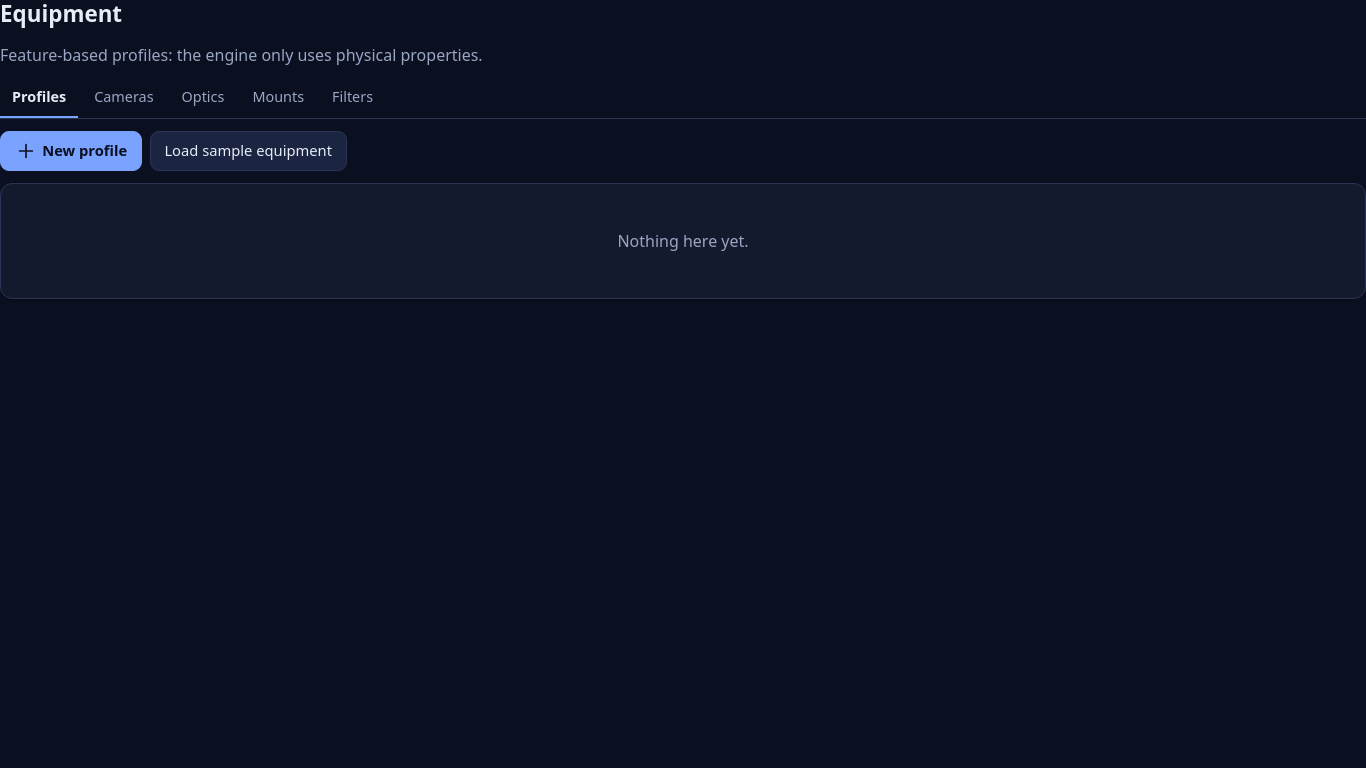
Test case: Equipment page › creates a camera with derived pixel pitch and persists it
This screenshot has width=1366, height=768.
Click the tab "Cameras": (124, 99) [82,79,166,118]
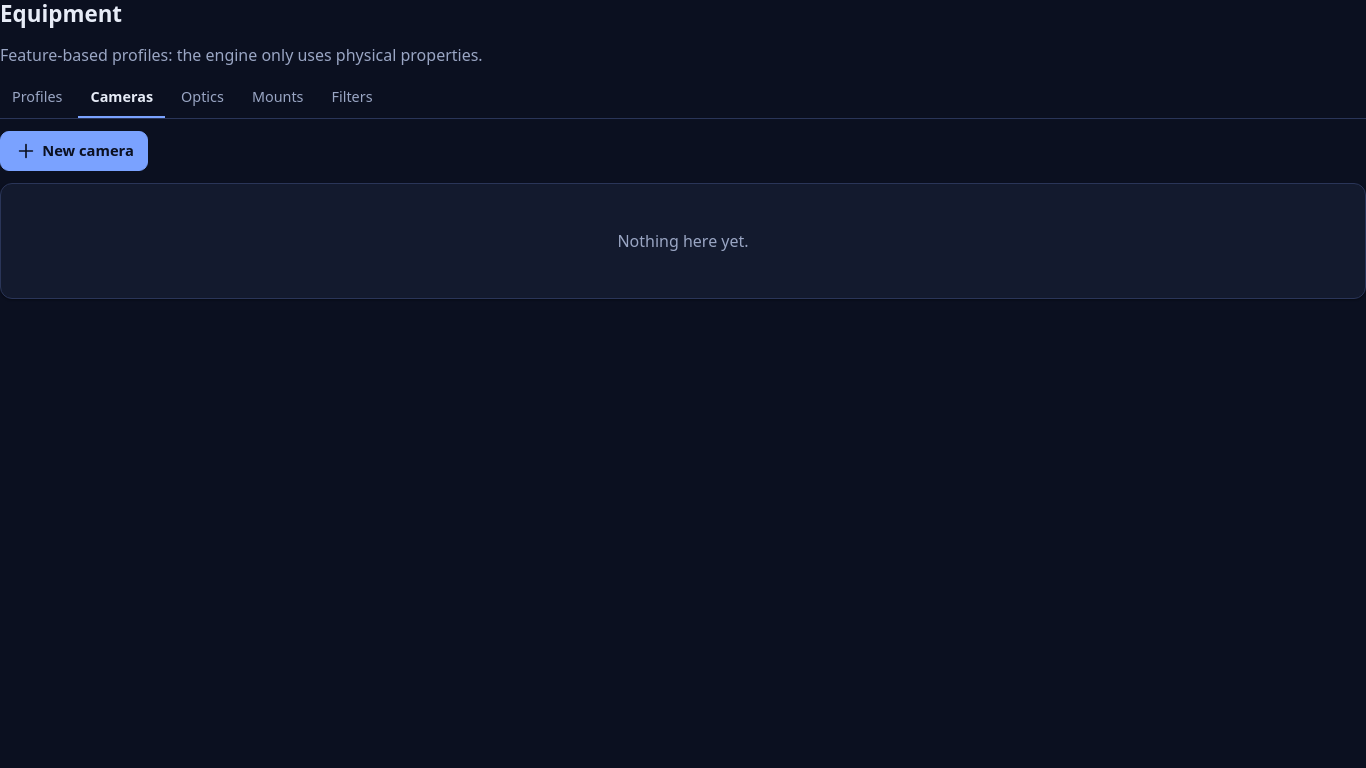
Click the button "New camera": (74, 151) [0,131,148,171]
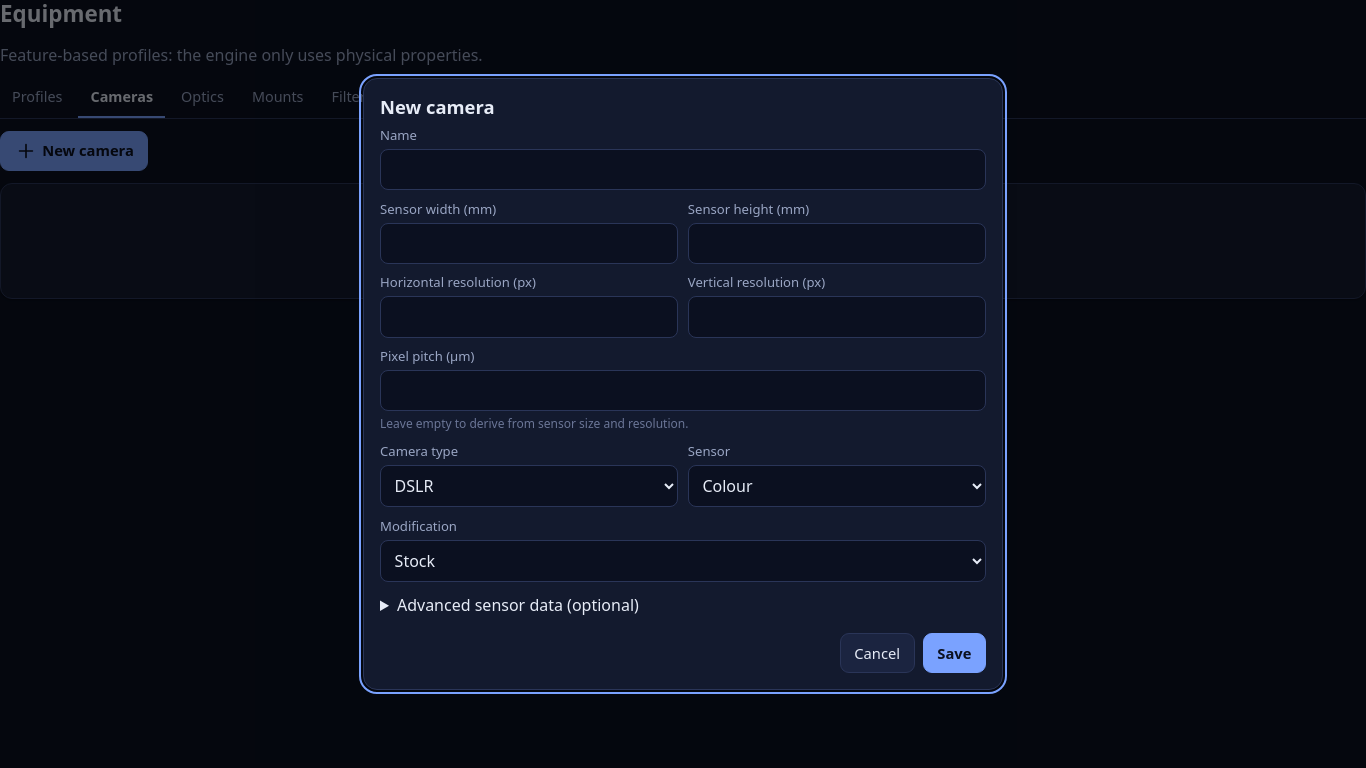
In the field labelled "Name": (683, 169) [380,149,986,190], type "Test cam"
In the number field labelled "Sensor width (mm)": (529, 243) [380,223,678,264], type "22.3"
In the number field labelled "Sensor height (mm)": (837, 243) [688,223,986,264], type "14.9"
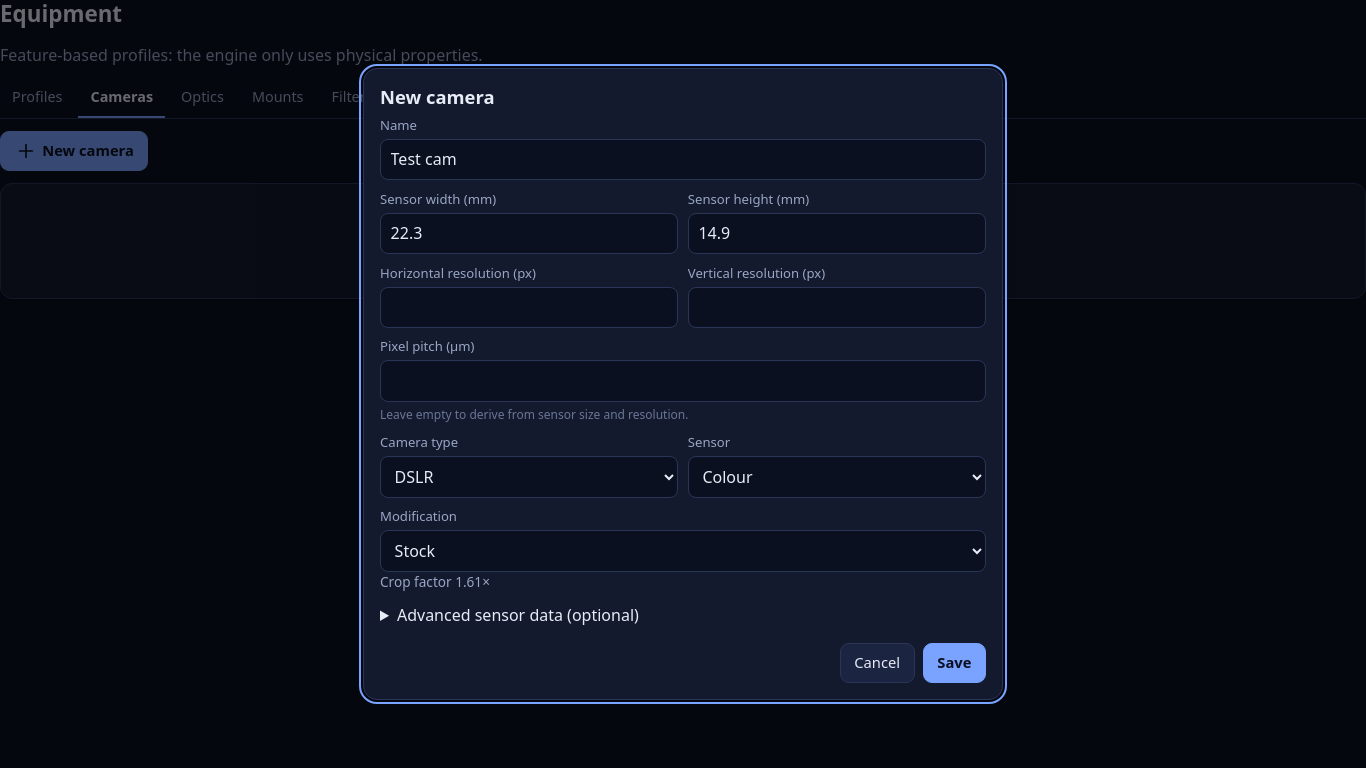
In the number field labelled "Horizontal resolution (px)": (529, 307) [380,287,678,328], type "6000"
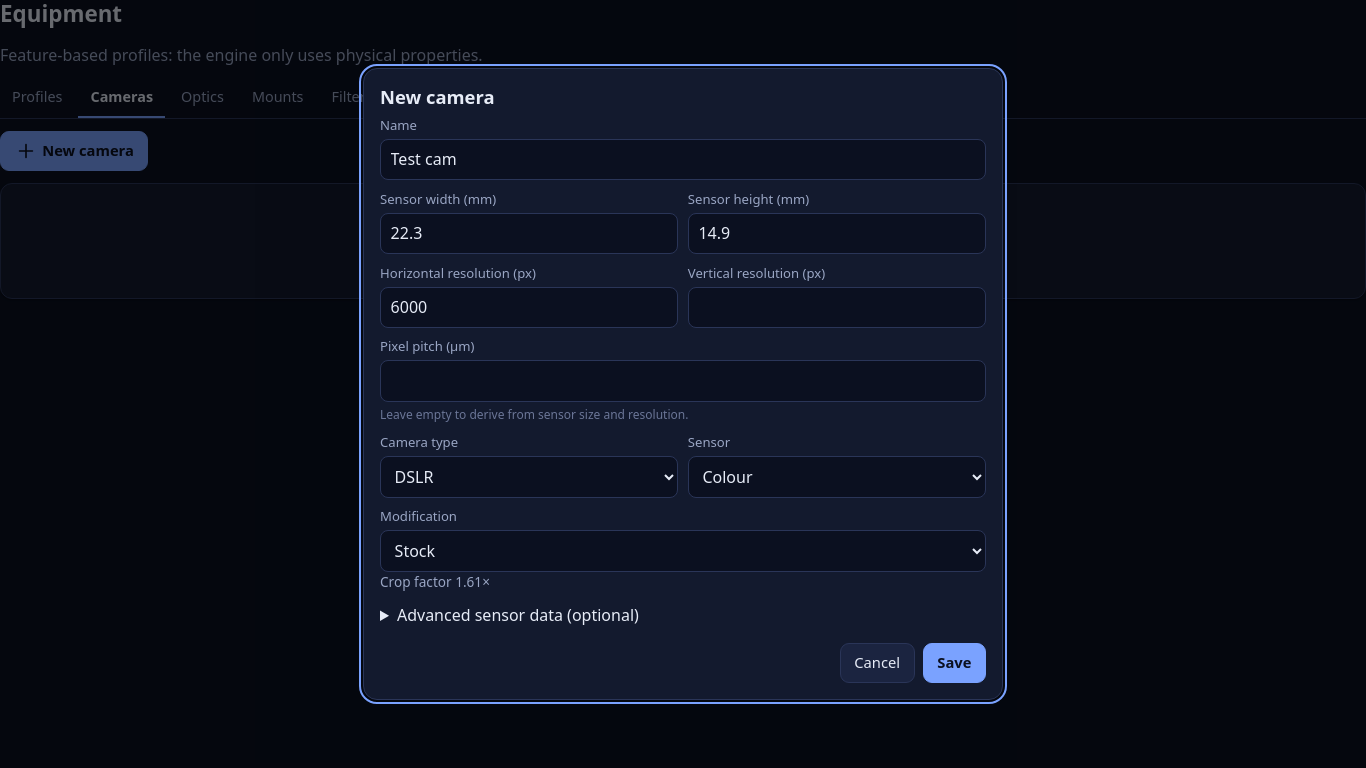
In the number field labelled "Vertical resolution (px)": (837, 307) [688,287,986,328], type "4000"
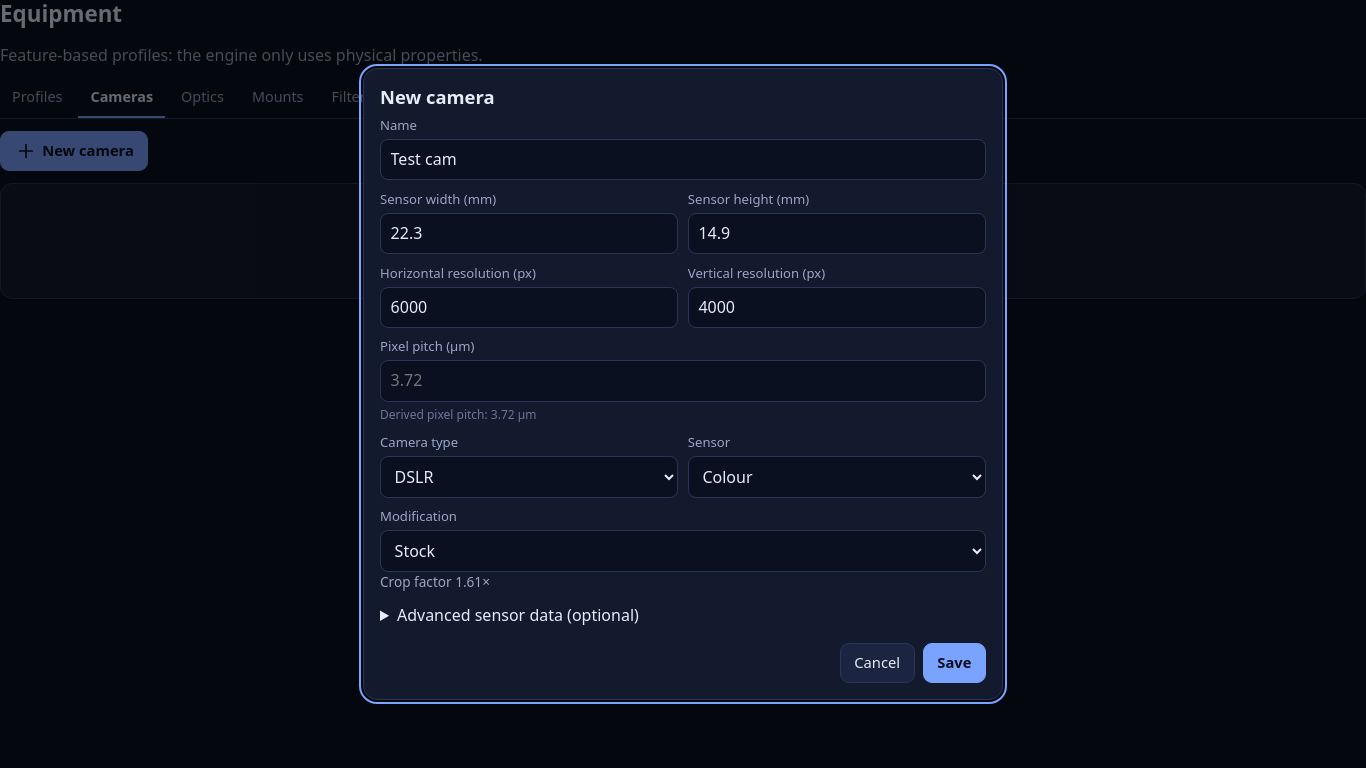
expect the dialog shows "Derived pixel pitch: 3.72 µm": met, box [380,406,536,423]
Click the button "Save": (954, 663) [923,643,986,683]
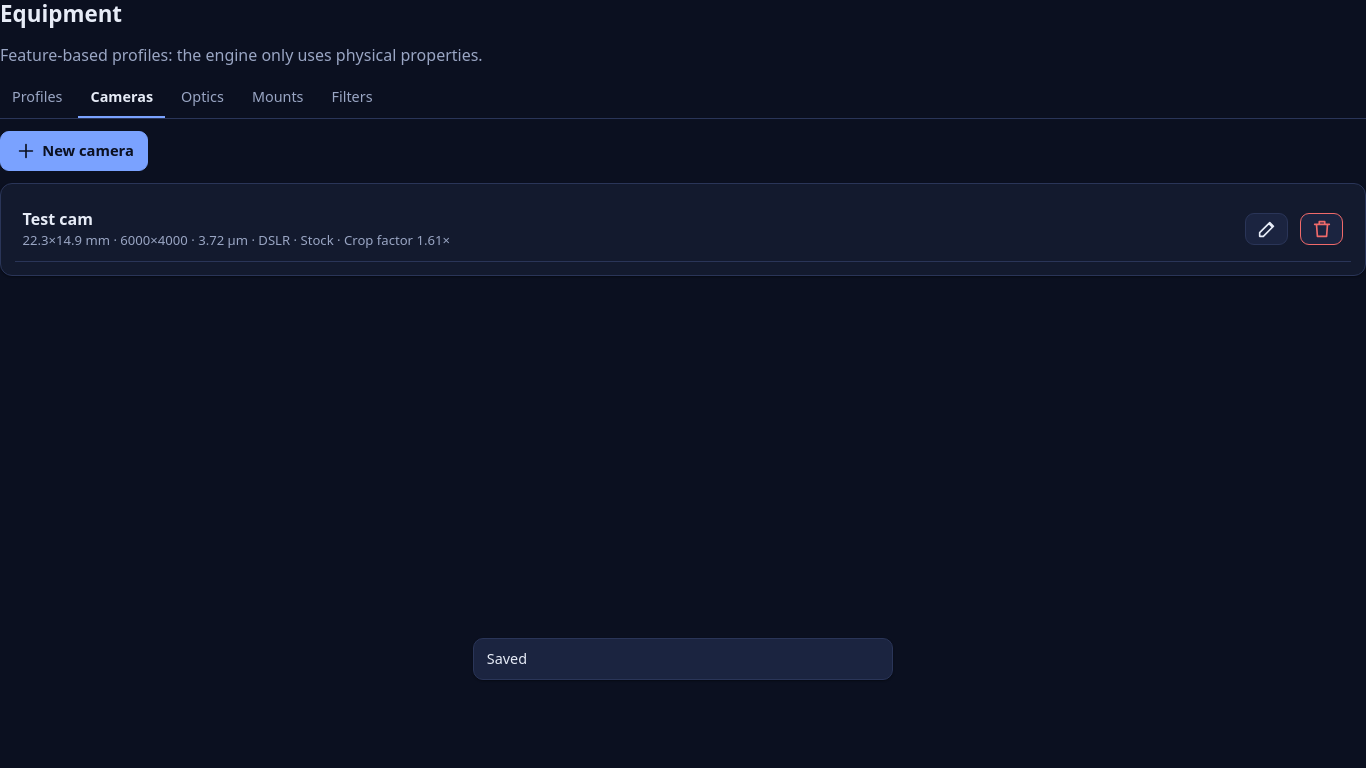
expect the text "Test cam" is shown: met, box [23,208,93,230]
